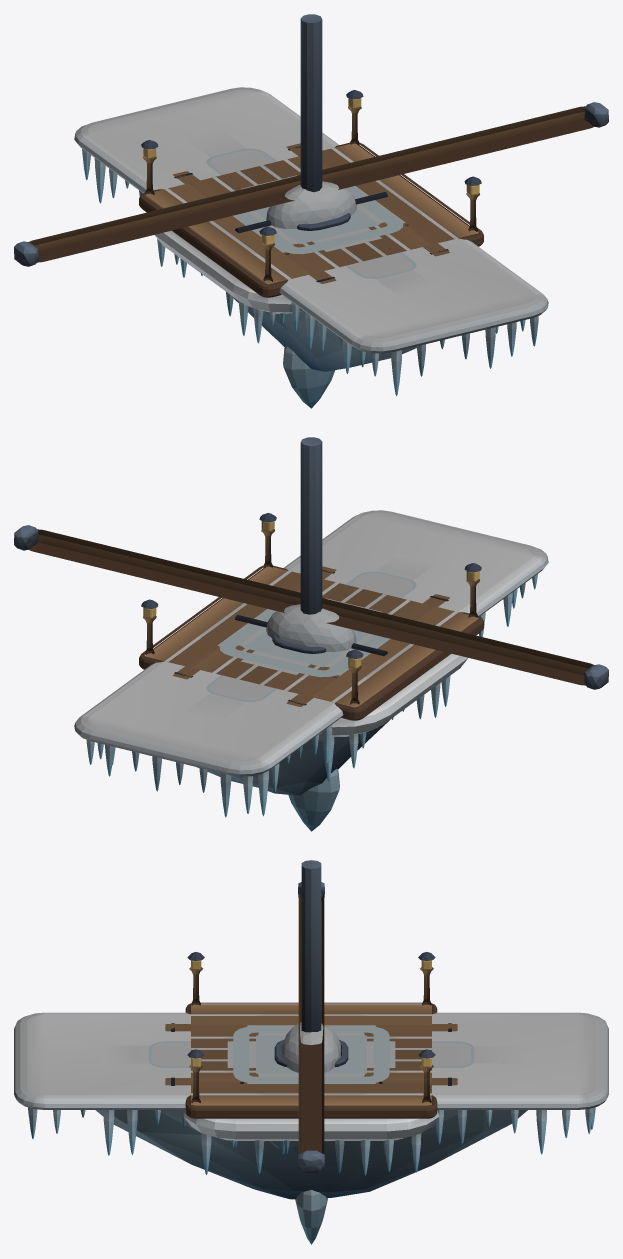
Rendered from glacier-6-B8XnpV_v.glb.
The picture shows the model from 3 angles, top to bottom: view 1: azimuth 30°, elevation 25°; view 2: azimuth 150°, elevation 25°; view 3: azimuth 270°, elevation 25°; orthographic projection. The views are drawn at different scales.
Visible parts, largest first — view 1: block_10x2x28#0, pad_12x2x12#0, mount_15.3#0, press_2.5x6x7.5#0, block_7x2x8_ice#0, boulder_4.7x3#0, block_3.5x2x16#0, beam_2x1.5x20_plank#0, blade_3x10x1_wheel#0, belt_7x1.5x14x0#0, block_10x2x7#0; view 2: block_10x2x28#0, pad_12x2x12#0, mount_15.3#0, press_2.5x6x7.5#0, block_7x2x8_ice#0, boulder_4.7x3#0, block_3.5x2x16#0, beam_2x1.5x20_plank#0, blade_3x10x1_wheel#0, belt_7x1.5x14x0#0, block_10x2x7#0; view 3: block_10x2x28#0, pad_12x2x12#0, block_7x2x8_ice#0, mount_15.3#0, press_2.5x6x7.5#0, block_3.5x2x16#0, beam_2x1.5x20_plank#0, boulder_4.7x3#0, belt_7x1.5x14x0#0, blade_3x10x1_wheel#0, block_10x2x7#0, beam_3x2x8#0 (+1 smaller).
Part boxes in pixels (x1=…): block_10x2x28#0: x1=74, y1=87, x2=548, y2=395; pad_12x2x12#0: x1=139, y1=90, x2=483, y2=343; mount_15.3#0: x1=14, y1=102, x2=608, y2=266; press_2.5x6x7.5#0: x1=300, y1=14, x2=322, y2=192; block_7x2x8_ice#0: x1=234, y1=186, x2=403, y2=254; boulder_4.7x3#0: x1=266, y1=181, x2=356, y2=228; block_3.5x2x16#0: x1=209, y1=150, x2=413, y2=277; beam_2x1.5x20_plank#0: x1=185, y1=130, x2=437, y2=296; blade_3x10x1_wheel#0: x1=283, y1=346, x2=335, y2=408; belt_7x1.5x14x0#0: x1=173, y1=143, x2=449, y2=283; block_10x2x7#0: x1=209, y1=180, x2=422, y2=254; block_10x2x28#0: x1=74, y1=510, x2=548, y2=817; pad_12x2x12#0: x1=139, y1=513, x2=483, y2=781; mount_15.3#0: x1=14, y1=525, x2=608, y2=689; press_2.5x6x7.5#0: x1=300, y1=437, x2=322, y2=614; block_7x2x8_ice#0: x1=219, y1=609, x2=388, y2=677; boulder_4.7x3#0: x1=266, y1=604, x2=356, y2=651; block_3.5x2x16#0: x1=209, y1=573, x2=413, y2=700; beam_2x1.5x20_plank#0: x1=185, y1=553, x2=437, y2=719; blade_3x10x1_wheel#0: x1=288, y1=768, x2=339, y2=831; belt_7x1.5x14x0#0: x1=173, y1=566, x2=449, y2=706; block_10x2x7#0: x1=200, y1=603, x2=413, y2=711; block_10x2x28#0: x1=14, y1=1012, x2=608, y2=1199; pad_12x2x12#0: x1=182, y1=952, x2=439, y2=1175; block_7x2x8_ice#0: x1=233, y1=1026, x2=389, y2=1083; mount_15.3#0: x1=298, y1=882, x2=324, y2=1172; press_2.5x6x7.5#0: x1=301, y1=860, x2=321, y2=1032; block_3.5x2x16#0: x1=152, y1=1042, x2=470, y2=1066; beam_2x1.5x20_plank#0: x1=101, y1=1045, x2=521, y2=1063; boulder_4.7x3#0: x1=281, y1=1022, x2=341, y2=1072; belt_7x1.5x14x0#0: x1=165, y1=1023, x2=457, y2=1085; blade_3x10x1_wheel#0: x1=295, y1=1190, x2=327, y2=1244; block_10x2x7#0: x1=247, y1=1014, x2=375, y2=1155; beam_3x2x8#0: x1=227, y1=1041, x2=395, y2=1067.
Bounding box in the file's own units: 31.5 × 20 × 28.36.
